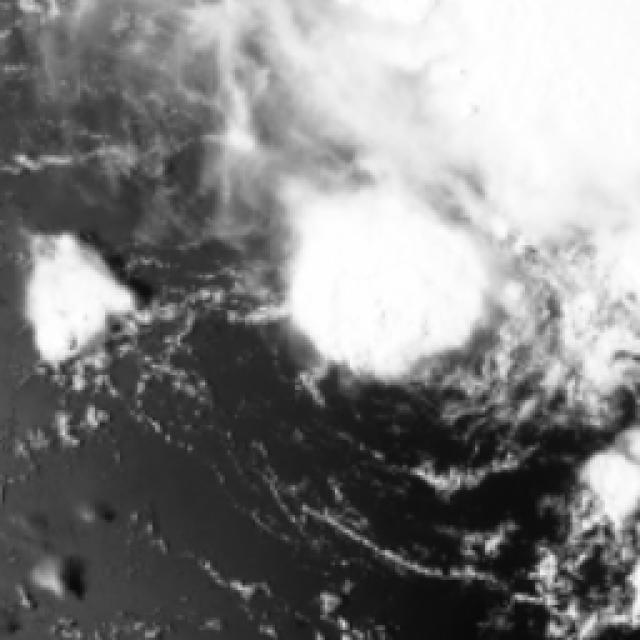CB: (470, 5, 640, 159), (324, 237, 450, 342)
